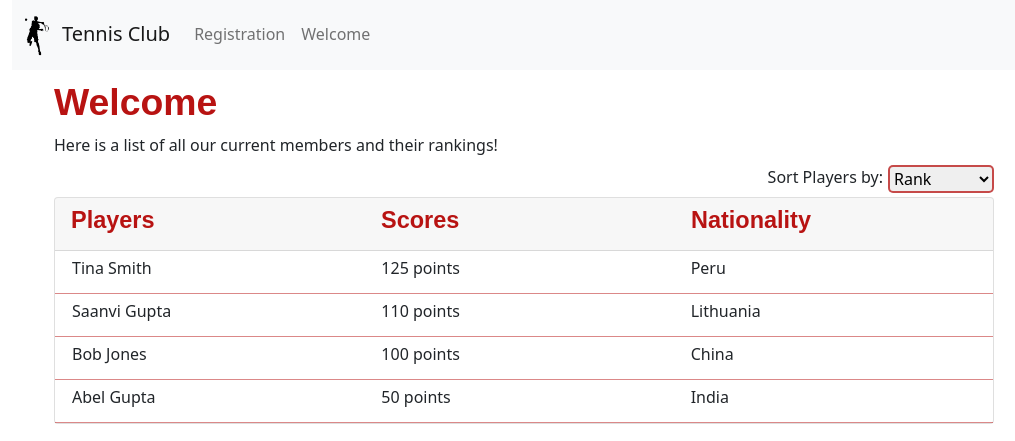
Test case: Welcome Page › sorts by nationality when sort dropdown is changed
The width and height of the screenshot is (1015, 441).
Select "Nationality" in the dropdown at (941,179), box [888,165,994,193]
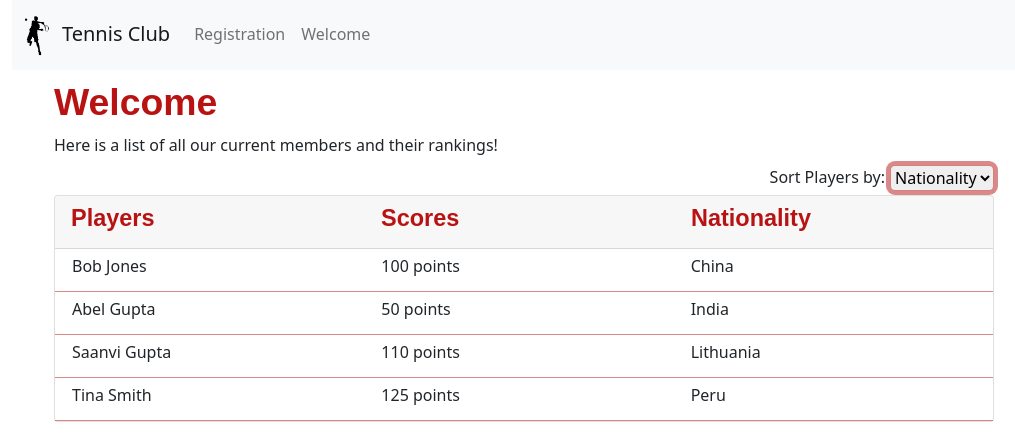
Result: the text "Bob Jones" is shown at [72,255,147,277]
Result: the text "Tina Smith" is shown at [72,384,152,406]
